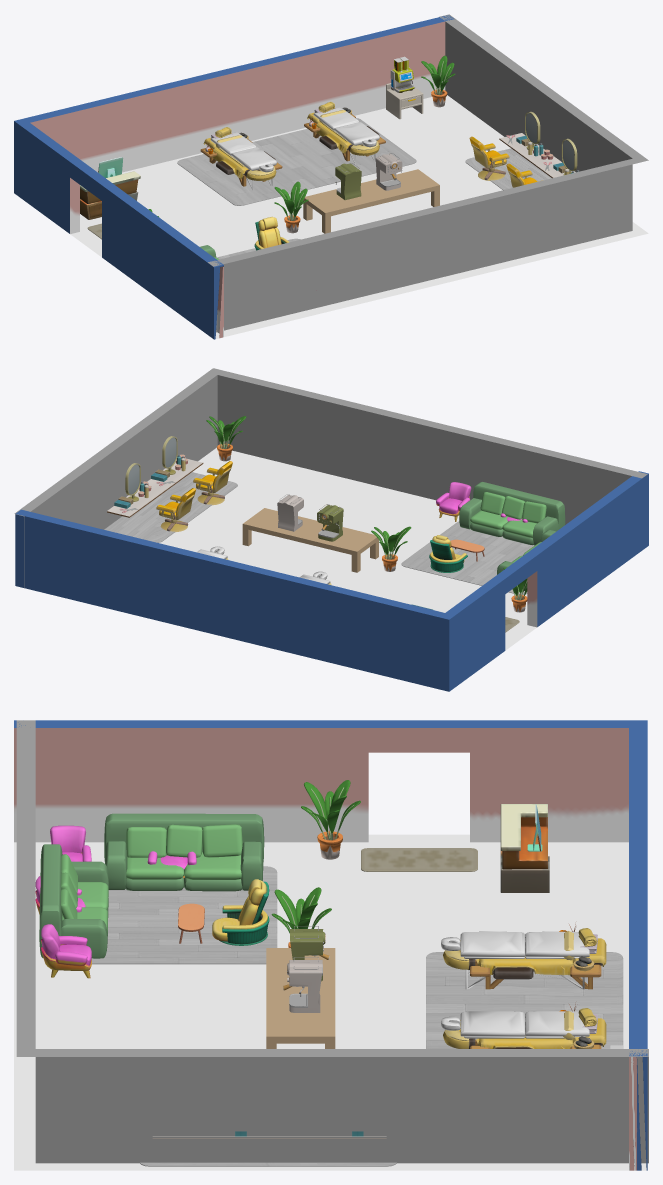
The model's file is RoomSerenity.fbx.
3 views of the same model, one above another, from view 1: azimuth 30°, elevation 25°; view 2: azimuth 150°, elevation 25°; view 3: azimuth 270°, elevation 25° (orthographic). The views are drawn at different scales.
Parts seen in each view (by area): view 1: polySurface2, polySurface1, floorMAt, Table, Chair, MassageUpgrade2, MassageUpgrade1, Plants, Juice, FloorMat, MassageChair; view 2: polySurface2, polySurface1, SofaUpgrade2, Chair, Table, FloorMat, Plants, MassageChair, Sofa.001; view 3: polySurface2, polySurface1, SofaUpgrade2, floorMAt, Table, MassageUpgrade1, MassageUpgrade2, Sofa.001, Plants, MassageChair, FloorMat.
Part boxes in pixels (x1,y1,x2,y2): polySurface2: (14, 15, 648, 339); polySurface1: (208, 14, 648, 332); floorMAt: (177, 118, 416, 205); Table: (303, 153, 439, 233); Chair: (469, 111, 579, 187); MassageUpgrade2: (200, 101, 385, 186); MassageUpgrade1: (210, 107, 379, 190); Plants: (148, 55, 455, 233); Juice: (386, 56, 423, 119); FloorMat: (465, 148, 551, 190); MassageChair: (254, 216, 289, 250); polySurface2: (15, 447, 648, 691); polySurface1: (14, 368, 647, 587); SofaUpgrade2: (401, 482, 565, 594); Chair: (107, 436, 232, 532); Table: (242, 494, 378, 572); FloorMat: (104, 472, 237, 542); Plants: (206, 416, 527, 612); MassageChair: (429, 535, 484, 572); Sofa.001: (436, 482, 527, 522); polySurface2: (14, 720, 647, 1170); polySurface1: (16, 720, 648, 1163); SofaUpgrade2: (39, 813, 277, 964); floorMAt: (426, 952, 623, 1048); Table: (266, 926, 335, 1048); MassageUpgrade1: (441, 931, 589, 1038); MassageUpgrade2: (443, 924, 606, 1048); Sofa.001: (35, 825, 196, 978); Plants: (271, 780, 360, 947); MassageChair: (178, 879, 269, 945); FloorMat: (140, 1162, 396, 1166).
Size of the model in its own units: 152 by 25.59 by 121.
